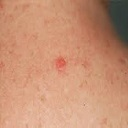Carcinoma: (53, 56, 70, 70)
